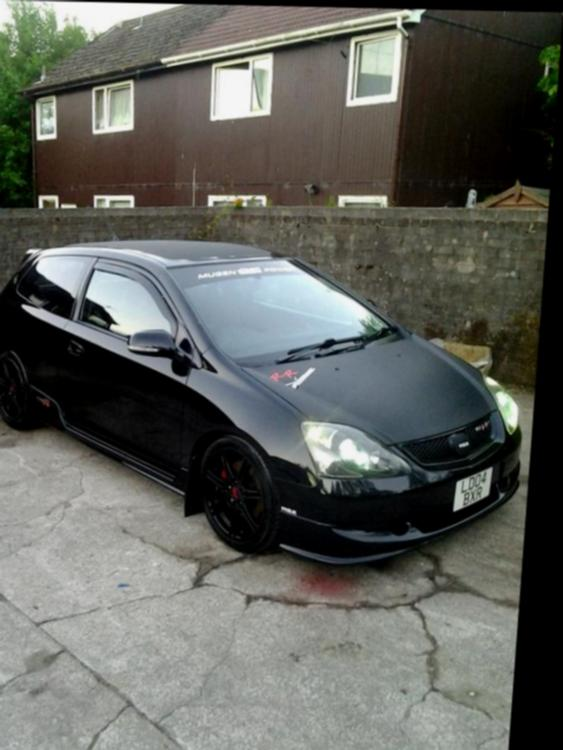License_Plate: (451, 462, 503, 517)
